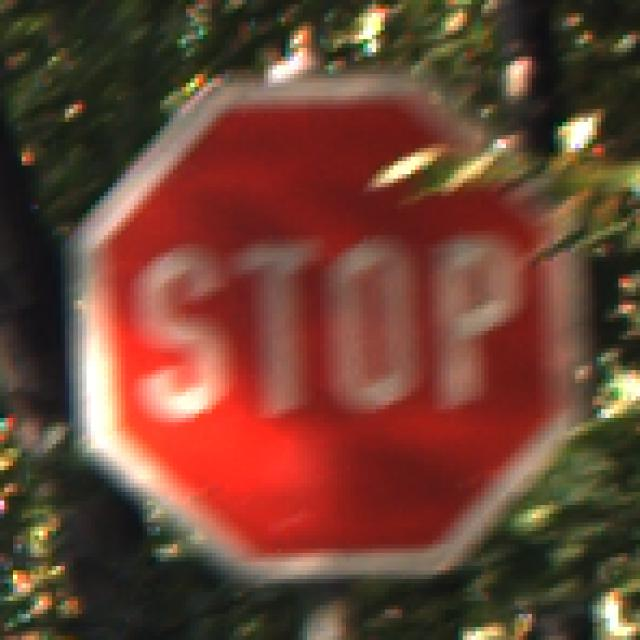STOP: (53, 58, 589, 589)
